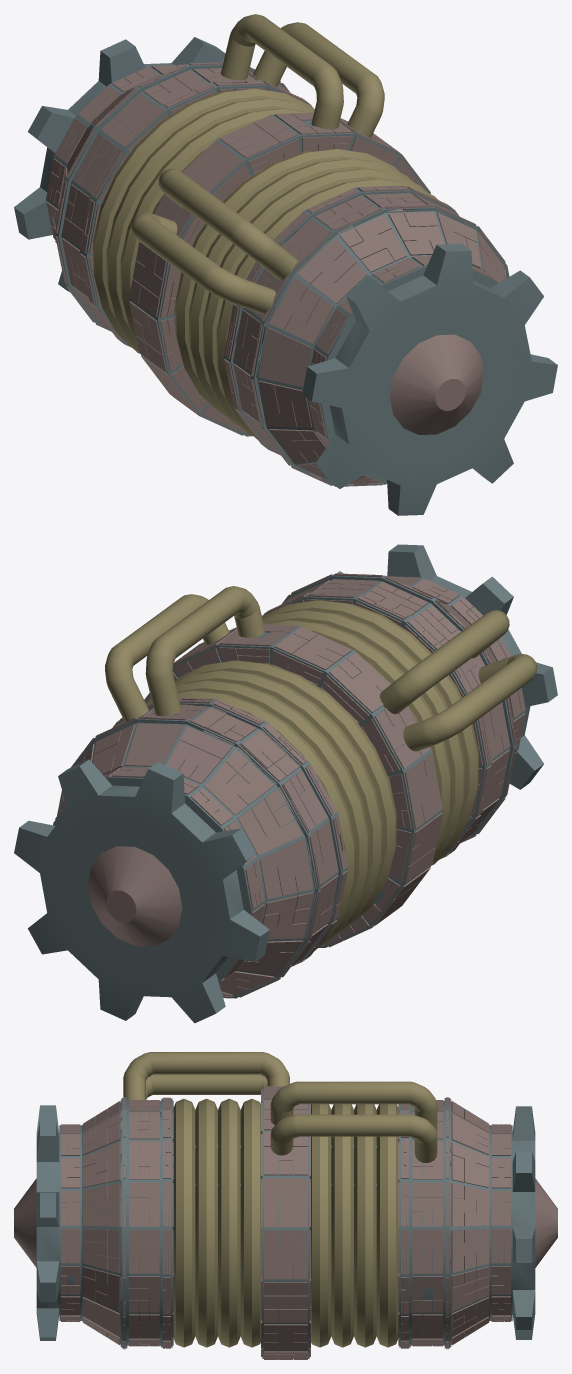
Rendered from Bomb.001.fbx.
3 views of the same model, one above another, from view 1: azimuth 30°, elevation 25°; view 2: azimuth 150°, elevation 25°; view 3: azimuth 270°, elevation 25° (orthographic). The views are drawn at different scales.
Visible parts, largest first — view 1: Bomb.001; view 2: Bomb.001; view 3: Bomb.001.
Boxes of the visible parts, left/top/right/bottom form: Bomb.001: left=14, top=14, right=557, bottom=515; Bomb.001: left=14, top=544, right=557, bottom=1023; Bomb.001: left=14, top=1052, right=557, bottom=1359.
Bounding box in the file's own units: 261 × 480 × 275.
